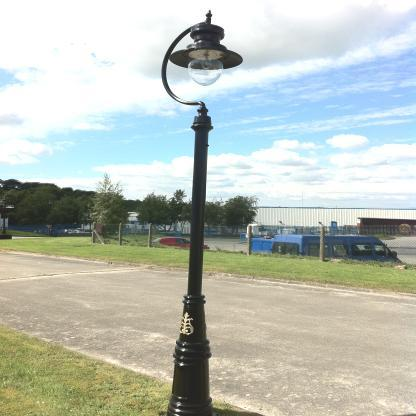light_pole: (160, 10, 243, 416)
